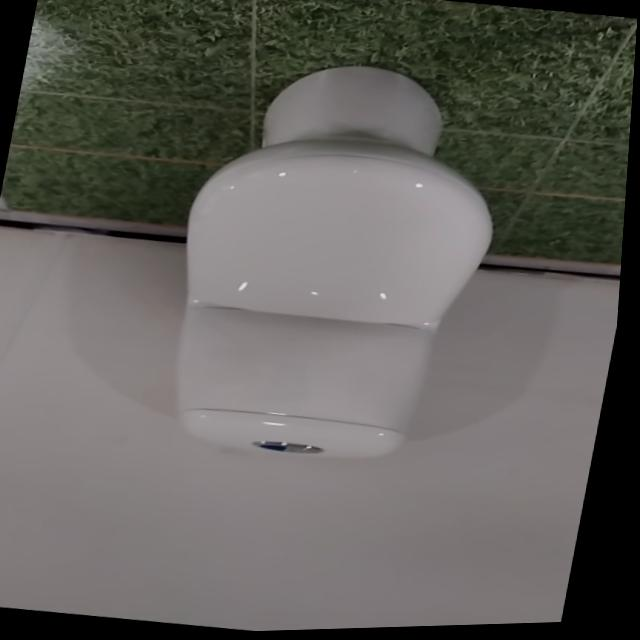toilet: (149, 46, 527, 480)
